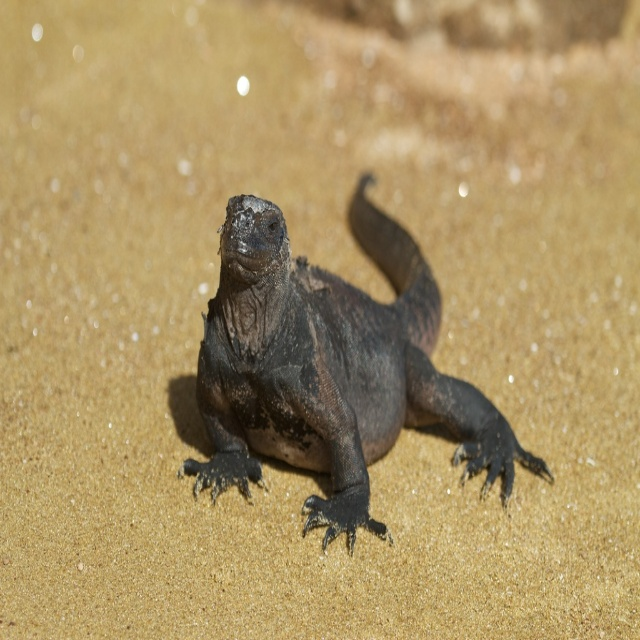Lizard: (171, 162, 559, 576)
